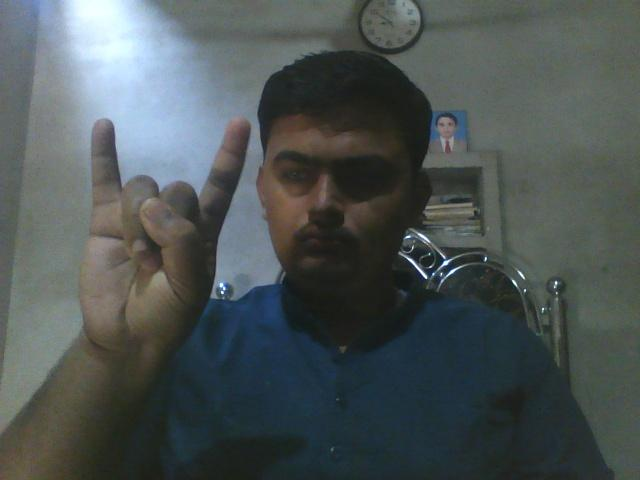No: (56, 82, 259, 393)
